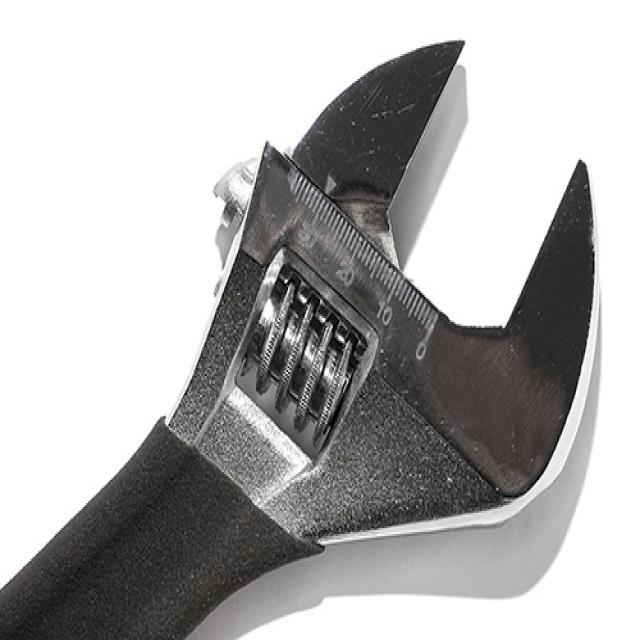wrench: (176, 14, 624, 612)
